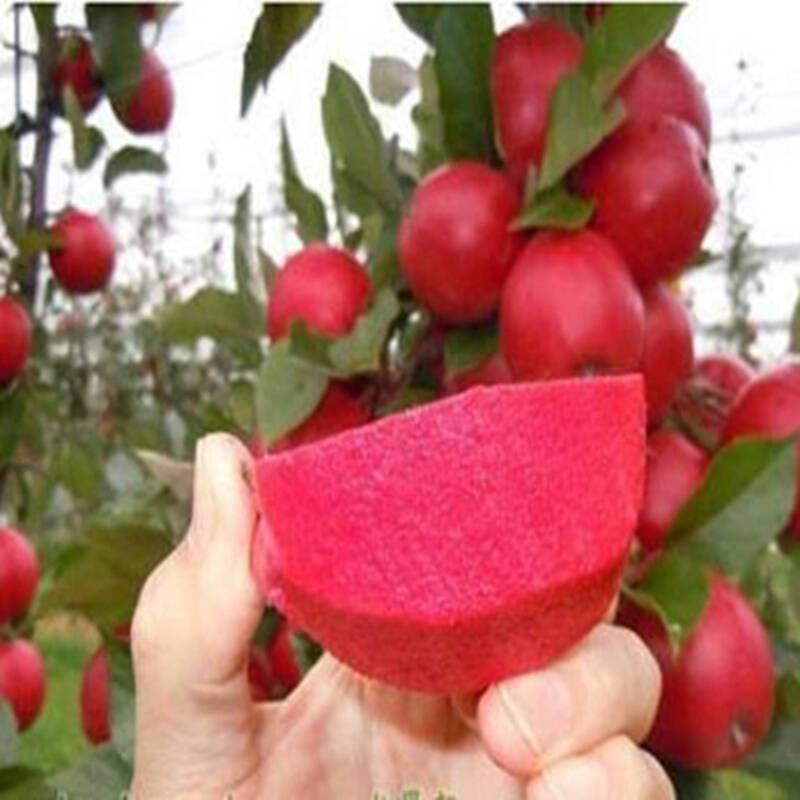apple: (625, 560, 779, 777), (572, 109, 724, 283), (396, 157, 529, 326), (499, 229, 647, 379), (263, 242, 372, 342), (46, 208, 116, 293), (1, 293, 31, 390)
